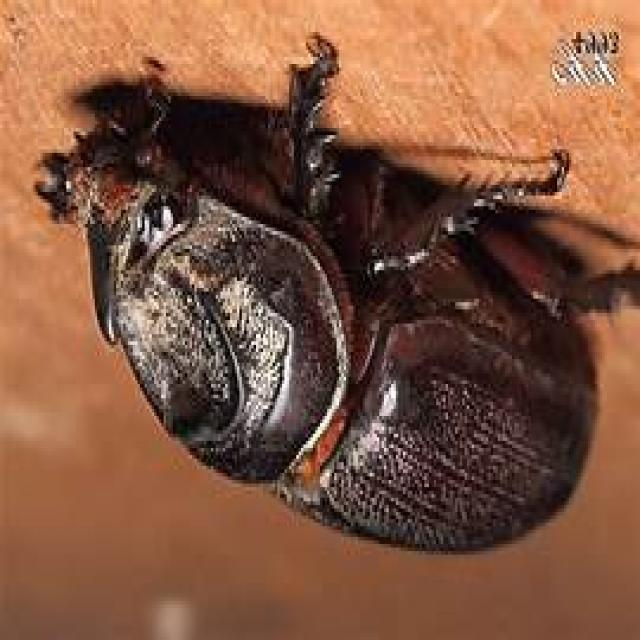Rhino-beetle: (36, 62, 630, 574)
